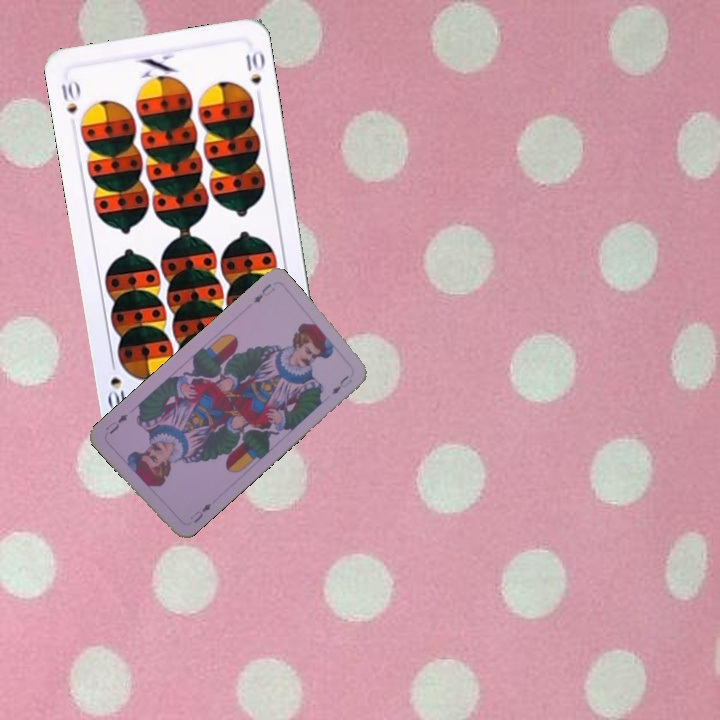EU: (249, 279, 278, 306), (186, 499, 214, 526)
S10: (57, 76, 83, 117)
